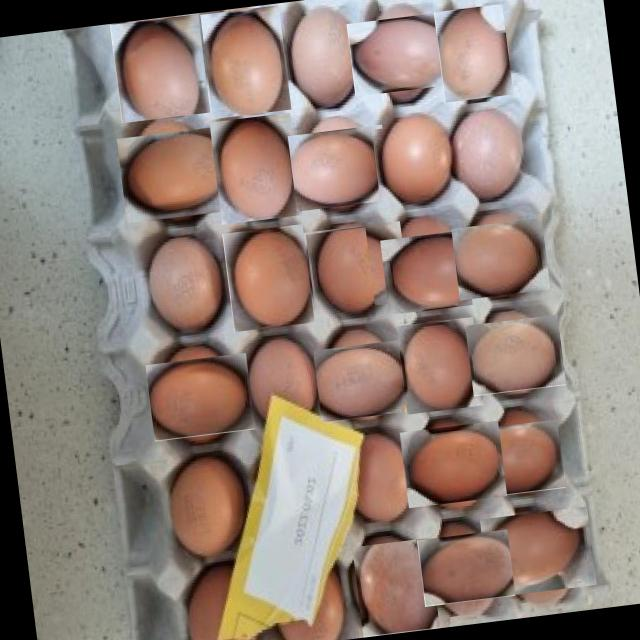eggs: (120, 121, 227, 227), (138, 230, 235, 346), (298, 214, 404, 320), (109, 13, 210, 123), (486, 500, 590, 604), (208, 112, 302, 226), (199, 4, 291, 119), (283, 4, 370, 122), (222, 223, 314, 333), (150, 346, 250, 446), (352, 4, 451, 103), (404, 414, 502, 512), (291, 120, 387, 216), (442, 106, 528, 212), (350, 538, 440, 638), (396, 316, 484, 415), (469, 308, 561, 401), (316, 334, 407, 426), (455, 213, 546, 304), (372, 120, 459, 214), (433, 3, 513, 104), (382, 228, 471, 316), (422, 524, 510, 612), (306, 226, 376, 327), (481, 417, 563, 499)
